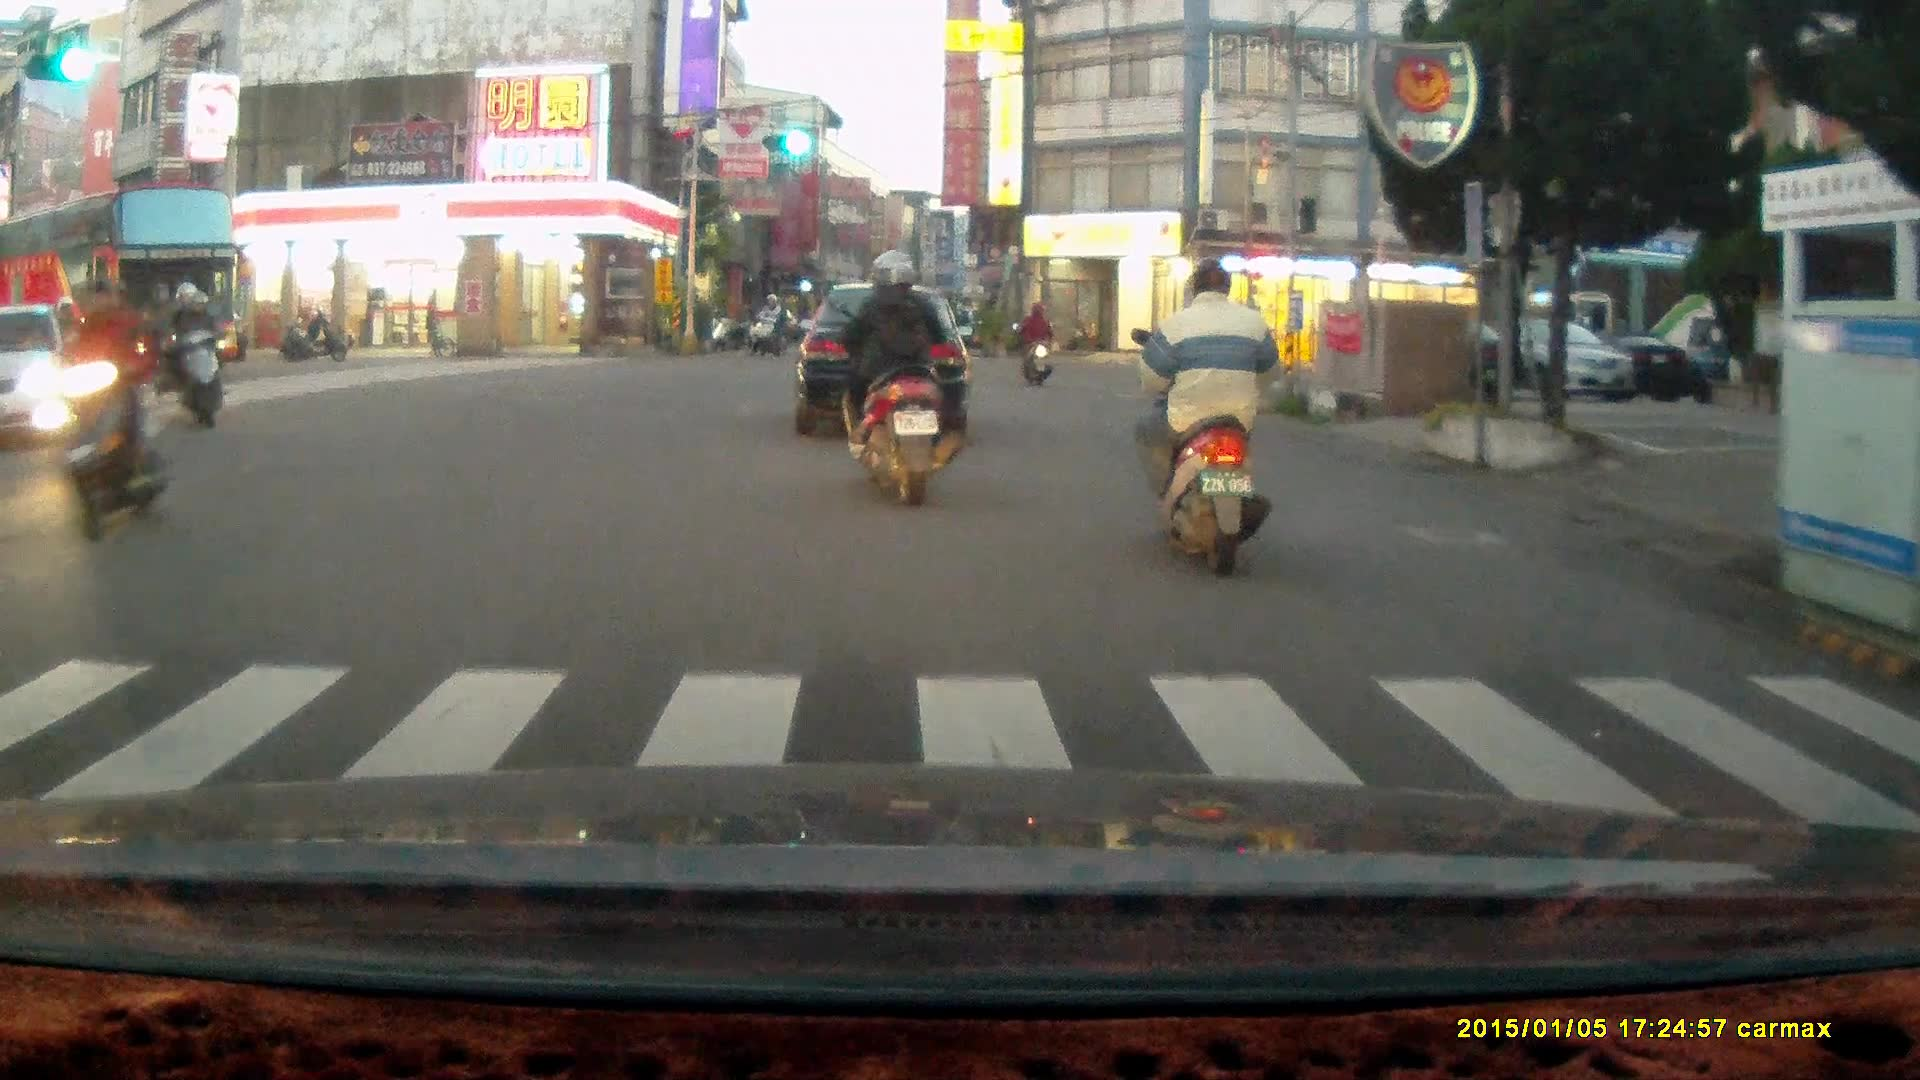rider: (1130, 248, 1279, 567), (827, 243, 968, 510), (41, 276, 171, 542), (160, 276, 224, 424), (1007, 298, 1054, 388), (748, 290, 781, 354)
vehicle: (1, 186, 241, 394), (1429, 315, 1639, 401), (1, 305, 76, 448)
